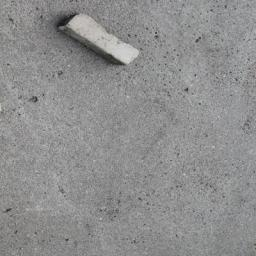FOD: (56, 11, 143, 70)
